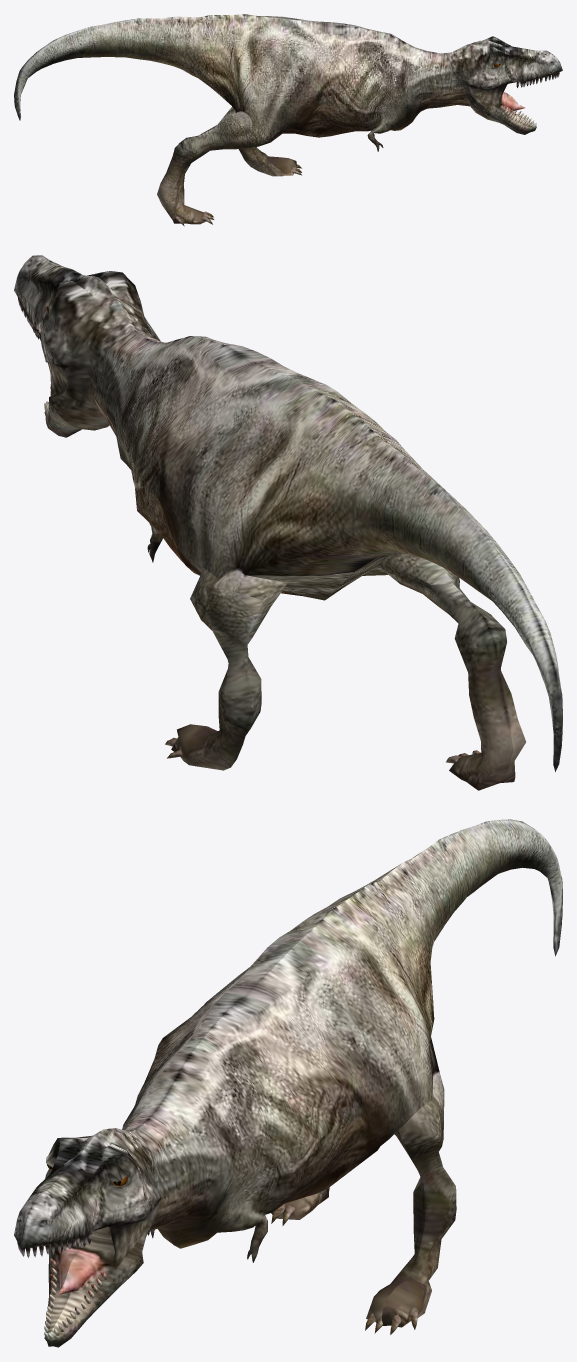
The model's file is t-rex11.dae.
3 renders of one model, top to bottom at view 1: azimuth 30°, elevation 25°; view 2: azimuth 150°, elevation 25°; view 3: azimuth 270°, elevation 25°, orthographic. The views are drawn at different scales.
Visible parts, largest first — view 1: Group2, Group71, Group37; view 2: Group37, Group67, Group2, Group3, Group71; view 3: Group37, Group2, Group67, Group71, Group3.
Part boxes in pixels (x1,y1,x2,y2): Group2: (14, 14, 562, 224); Group71: (238, 147, 296, 176); Group37: (259, 16, 549, 126); Group37: (14, 255, 561, 771); Group67: (171, 568, 287, 770); Group2: (34, 255, 562, 782); Group3: (326, 560, 513, 790); Group71: (191, 648, 261, 757); Group37: (21, 819, 562, 1347); Group2: (14, 850, 555, 1340); Group67: (381, 1071, 456, 1327); Group71: (366, 1130, 424, 1322); Group3: (277, 1187, 329, 1219).
Size of the model in its own units: 118293 by 69388 by 50253.
3 materials, 3 textured.
